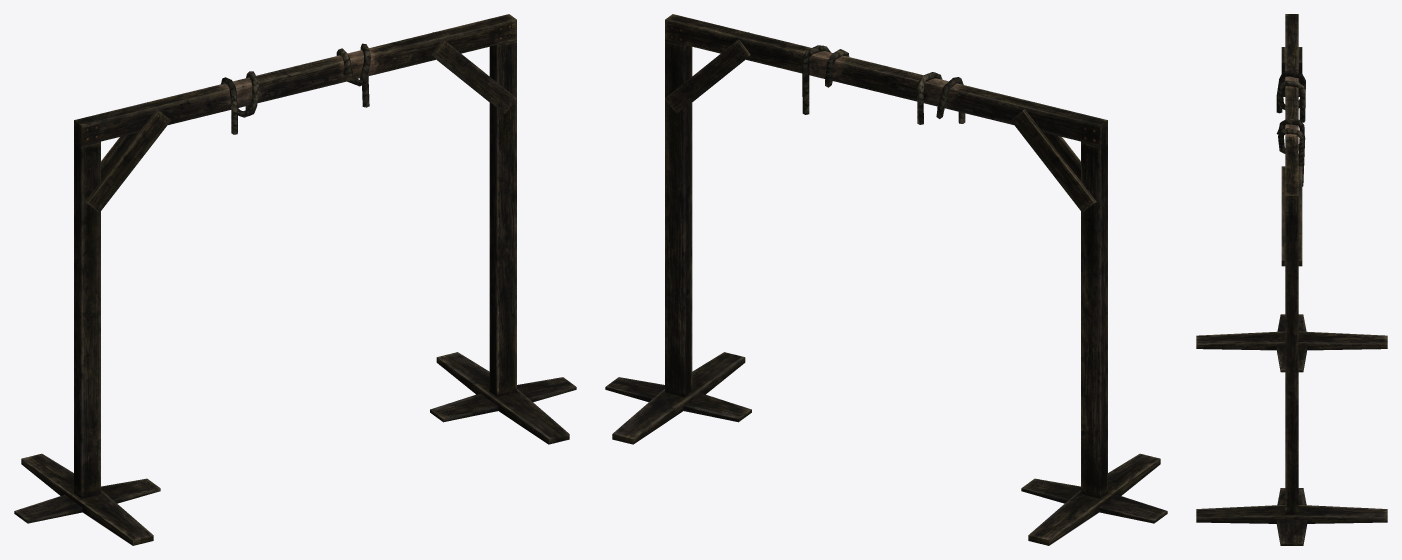
The model's file is torture_saw_setup.dae.
3 renders of one model, left to right at view 1: azimuth 30°, elevation 25°; view 2: azimuth 150°, elevation 25°; view 3: azimuth 270°, elevation 25°, orthographic. The views are drawn at different scales.
Visible parts, largest first — view 1: base; view 2: base; view 3: base.
Boxes of the visible parts, x1=… form: base: x1=14, y1=14, x2=576, y2=545; base: x1=605, y1=14, x2=1167, y2=545; base: x1=1196, y1=14, x2=1387, y2=545.
Size of the model in its own units: 4.21 by 1.49 by 2.85.
